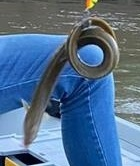Anguilla anguilla: (20, 20, 120, 146)
